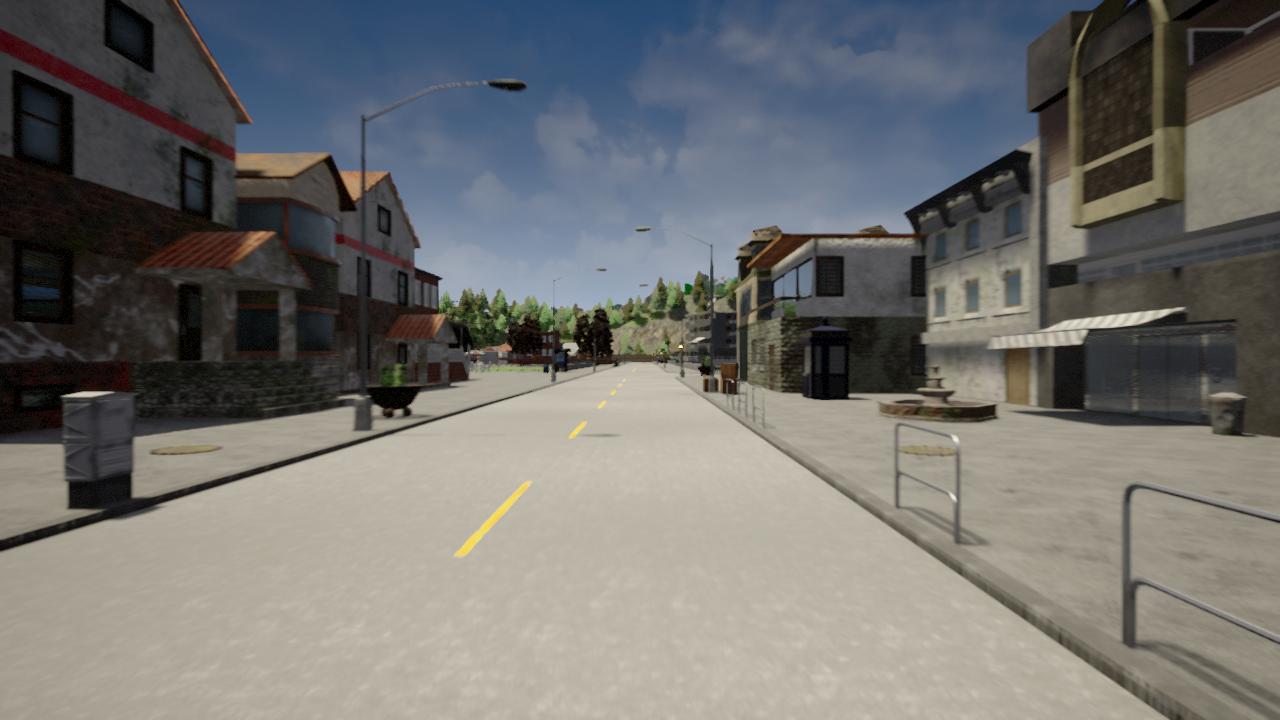yellow: (678, 341, 684, 353)
